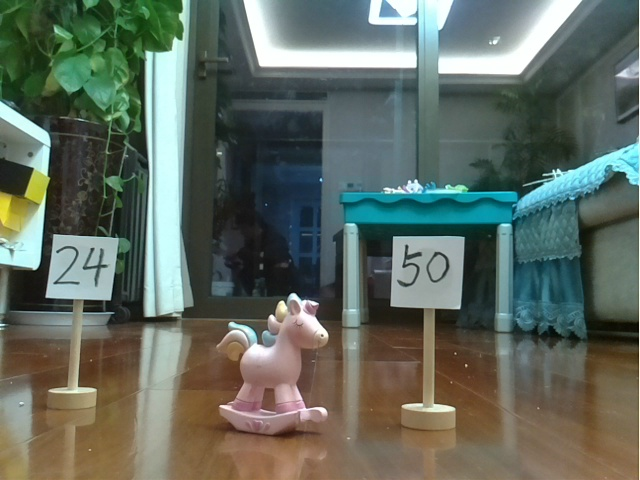Horse: (207, 291, 342, 440)
Speed Limit 24: (41, 224, 122, 411)
Speed Limit 50: (386, 225, 474, 433)
